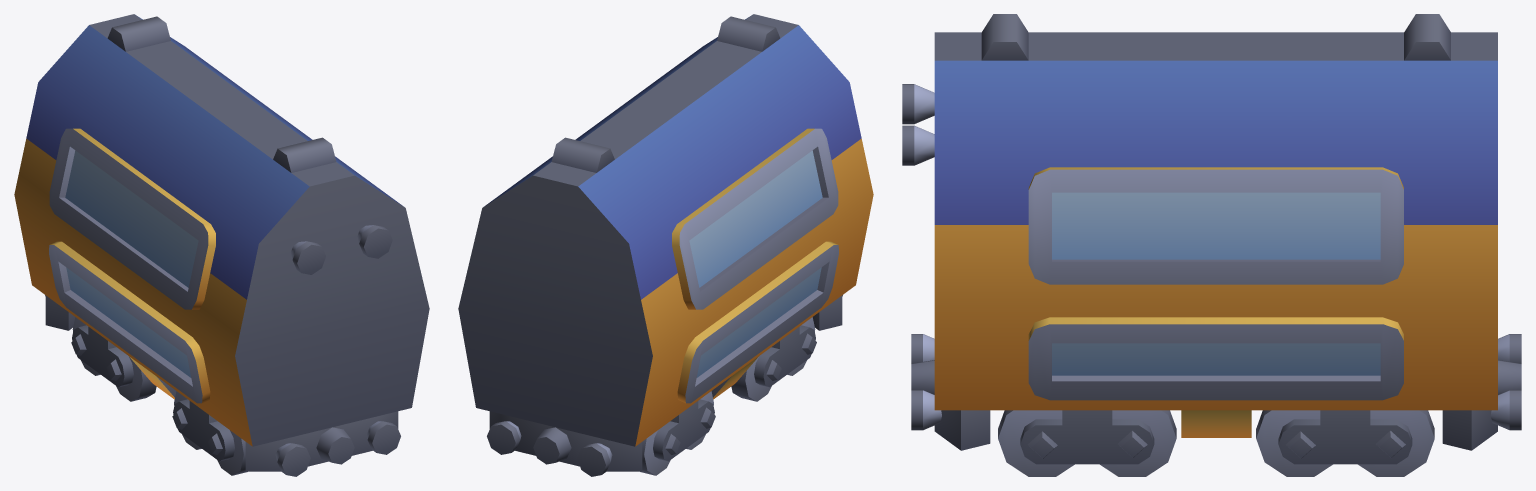
The model's file is train-electric-double-c.glb.
3 renders of one model, left to right at view 1: azimuth 30°, elevation 25°; view 2: azimuth 150°, elevation 25°; view 3: azimuth 270°, elevation 25°, orthographic. The views are drawn at different scales.
Parts seen in each view (by area): view 1: train-electric-double-c, wheels-back, wheels-front; view 2: train-electric-double-c, wheels-front, wheels-back; view 3: train-electric-double-c, wheels-back, wheels-front.
Part boxes in pixels (x1=…): train-electric-double-c: x1=14, y1=14, x2=429, y2=476; wheels-back: x1=71, y1=317, x2=156, y2=401; wheels-front: x1=172, y1=391, x2=247, y2=475; train-electric-double-c: x1=458, y1=14, x2=873, y2=476; wheels-front: x1=731, y1=317, x2=816, y2=401; wheels-back: x1=640, y1=391, x2=715, y2=475; train-electric-double-c: x1=902, y1=14, x2=1521, y2=450; wheels-back: x1=1256, y1=410, x2=1434, y2=476; wheels-front: x1=998, y1=410, x2=1176, y2=476.
Size of the model in its own units: 1.28 by 1.92 by 2.64.
